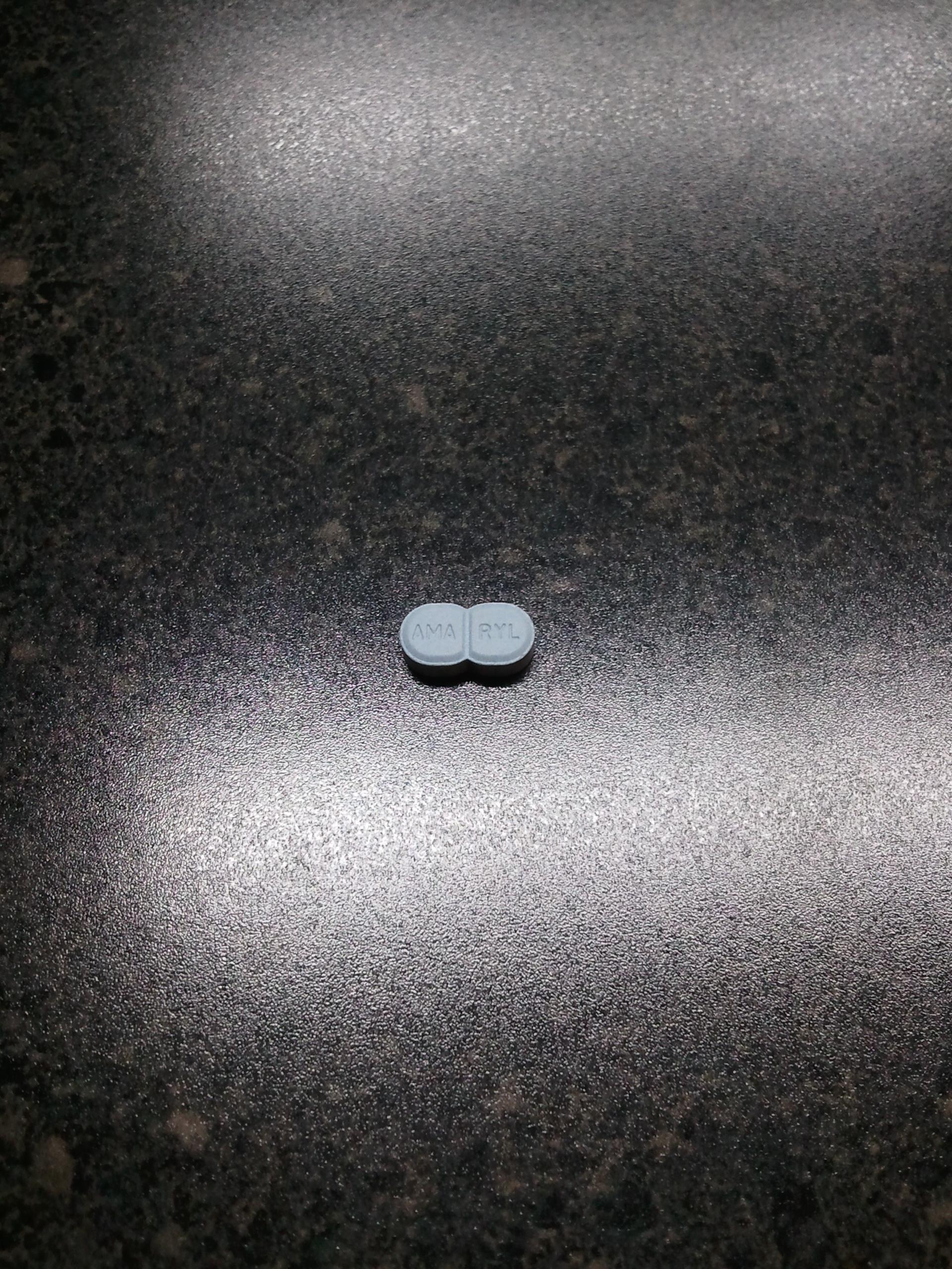Pill: (372, 585, 560, 697)
